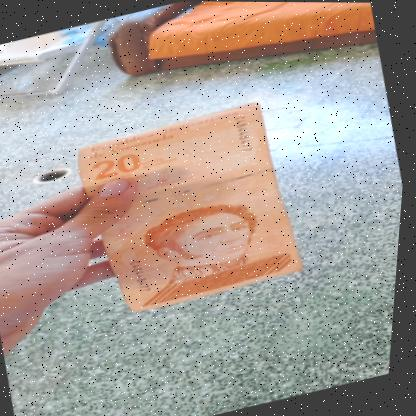twenty-front-vef: (66, 97, 318, 321)
